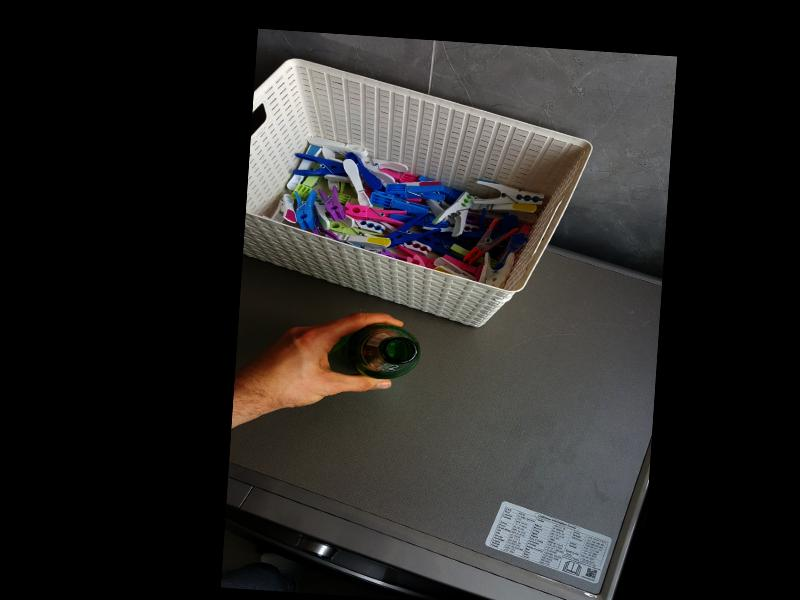Beer: (340, 321, 422, 381)
